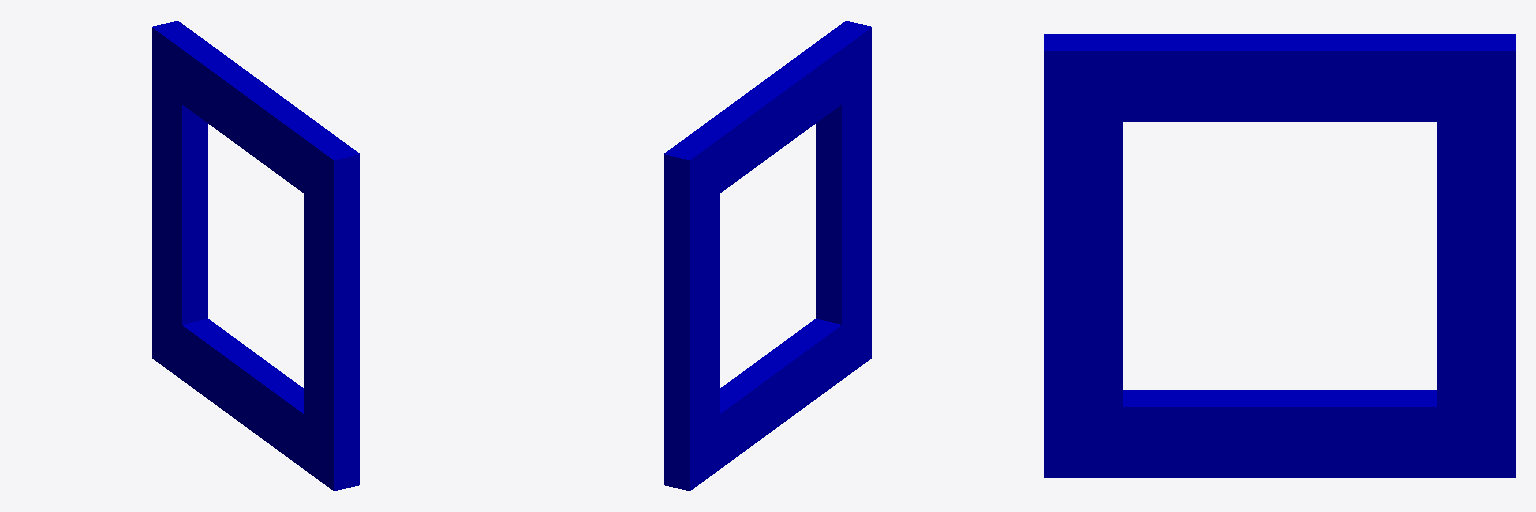
The robot description file, URDF, robot "cube":
<?xml version="1.0"?>
<robot name="cube">

<link name="base_link">

    <inertial>
      <mass value="0.1"/>
      <origin rpy="0 0 0" xyz="0 0 0"/>
      <inertia ixx="1e-3" ixy="0.0" ixz="0.0" iyy="1e-3" iyz="0.0" izz="1e-3"/>
    </inertial>

</link>

<link name="link_1">
    <contact>
        <lateral_friction value="4.0"/>
    </contact>

    <visual>
      <origin rpy="0 0 0" xyz="0 -0.12 0"/>
      <geometry>
        <box size="0.02 0.04 0.24"/>
      </geometry>
      <material name="blue">
        <color rgba="0 0 .8 1"/>
      </material>
    </visual>

    <collision>
      <origin rpy="0 0 0" xyz="0 -0.12 0"/>
      <geometry>
        <box size="0.02 0.04 0.24"/>
      </geometry>
    </collision>

    <inertial>
      <mass value="0.01"/>
      <origin rpy="0 0 0" xyz="0 0 0"/>
      <inertia ixx="1e-3" ixy="0.0" ixz="0.0" iyy="1e-3" iyz="0.0" izz="1e-3"/>
    </inertial>

</link>

<link name="link_2">
    <contact>
        <lateral_friction value="4.0"/>
    </contact>

    <visual>
      <origin rpy="0 0 0" xyz="0 -0.12 0"/>
      <geometry>
        <box size="0.02 0.24 0.04"/>
      </geometry>
      <material name="blue">
        <color rgba="0 0 .8 1"/>
      </material>
    </visual>

    <collision>
      <origin rpy="0 0 0" xyz="0 -0.12 0"/>
      <geometry>
        <box size="0.02 0.24 0.04"/>
      </geometry>
    </collision>

    <inertial>
      <mass value="0.01"/>
      <origin rpy="0 0 0" xyz="0 0 0"/>
      <inertia ixx="1e-3" ixy="0.0" ixz="0.0" iyy="1e-3" iyz="0.0" izz="1e-3"/>
    </inertial>

</link>

<link name="link_3">
    <contact>
        <lateral_friction value="4.0"/>
    </contact>

    <visual>
      <origin rpy="0 0 0" xyz="0 -0.12 0"/>
      <geometry>
        <box size="0.02 0.04 0.24"/>
      </geometry>
      <material name="blue">
        <color rgba="0 0 .8 1"/>
      </material>
    </visual>

    <collision>
      <origin rpy="0 0 0" xyz="0 -0.12 0"/>
      <geometry>
        <box size="0.02 0.04 0.24"/>
      </geometry>
    </collision>

    <inertial>
      <mass value="0.01"/>
      <origin rpy="0 0 0" xyz="0 0 0"/>
      <inertia ixx="1e-3" ixy="0.0" ixz="0.0" iyy="1e-3" iyz="0.0" izz="1e-3"/>
    </inertial>

</link>

<link name="link_4">
    <contact>
        <lateral_friction value="4.0"/>
    </contact>

    <visual>
      <origin rpy="0 0 0" xyz="0 -0.12 0"/>
      <geometry>
        <box size="0.02 0.24 0.04"/>
      </geometry>
      <material name="blue">
        <color rgba="0 0 .8 1"/>
      </material>
    </visual>

    <collision>
      <origin rpy="0 0 0" xyz="0 -0.12 0"/>
      <geometry>
        <box size="0.02 0.24 0.04"/>
      </geometry>
    </collision>

    <inertial>
      <mass value="0.01"/>
      <origin rpy="0 0 0" xyz="0 0 0"/>
      <inertia ixx="1e-3" ixy="0.0" ixz="0.0" iyy="1e-3" iyz="0.0" izz="1e-3"/>
    </inertial>

</link>
  <joint name="joint_Center" type="fixed">
    <origin xyz="0 -0.10 0.0" rpy="0.0 0.0 0.0"/>
    <parent link="base_link"/>
    <child link="link_1"/>
    <axis xyz="0.0 0.0 0.0"/>
    <limit lower="0.0" upper="0.0" effort="0.0" velocity="0.0"/>
  </joint>

  <joint name="joint_1" type="fixed">
    <origin xyz="0.0 0.10 0.10" rpy="0.0 0.0 0.0"/>
    <parent link="link_1"/>
    <child link="link_2"/>
    <axis xyz="0.0 0.0 0.0"/>
    <limit lower="0.0" upper="0.0" effort="0.0" velocity="0.0"/>
  </joint>

  <joint name="joint_2" type="fixed">
    <origin xyz="0.0 0.10 -0.10" rpy="0.0 0.0 0.0"/>
    <parent link="link_2"/>
    <child link="link_3"/>
    <axis xyz="0.0 0.0 0.0"/>
    <limit lower="0.0" upper="0.0" effort="0.0" velocity="0.0"/>
  </joint>

  <joint name="joint_3" type="fixed">
    <origin xyz="0.0 -0.10 -0.10" rpy="0.0 0.0 0.0"/>
    <parent link="link_3"/>
    <child link="link_4"/>
    <axis xyz="0.0 0.0 0.0"/>
    <limit lower="0.0" upper="0.0" effort="0.0" velocity="0.0"/>
  </joint>

</robot>

--- Facts derived from the render (not from the file) ---
3 views of the same robot in one strip: view 1: azimuth 30°, elevation 25°; view 2: azimuth 150°, elevation 25°; view 3: azimuth 270°, elevation 25° (orthographic).
Robot: cube — 5 links, 4 joints (4 fixed); root link base_link; default pose: every joint at zero.
Visible links, largest first — view 1: link_1, link_3, link_4, link_2; view 2: link_3, link_1, link_2, link_4; view 3: link_2, link_4, link_1, link_3.
Link boxes in pixels (box(x1,y1,x2,y2)): link_1: box(304, 132, 359, 490); link_3: box(152, 21, 207, 379); link_4: box(152, 305, 359, 490); link_2: box(152, 21, 359, 213); link_3: box(664, 132, 719, 490); link_1: box(816, 21, 871, 378); link_2: box(664, 21, 871, 214); link_4: box(664, 303, 871, 490); link_2: box(1044, 34, 1515, 121); link_4: box(1044, 390, 1515, 477); link_1: box(1044, 34, 1122, 477); link_3: box(1437, 34, 1515, 477).
Bounding box of the posed robot: 0.02 × 0.24 × 0.24 m (x, y, z).
Geometry: primitives only (box / cylinder / sphere), no mesh files.